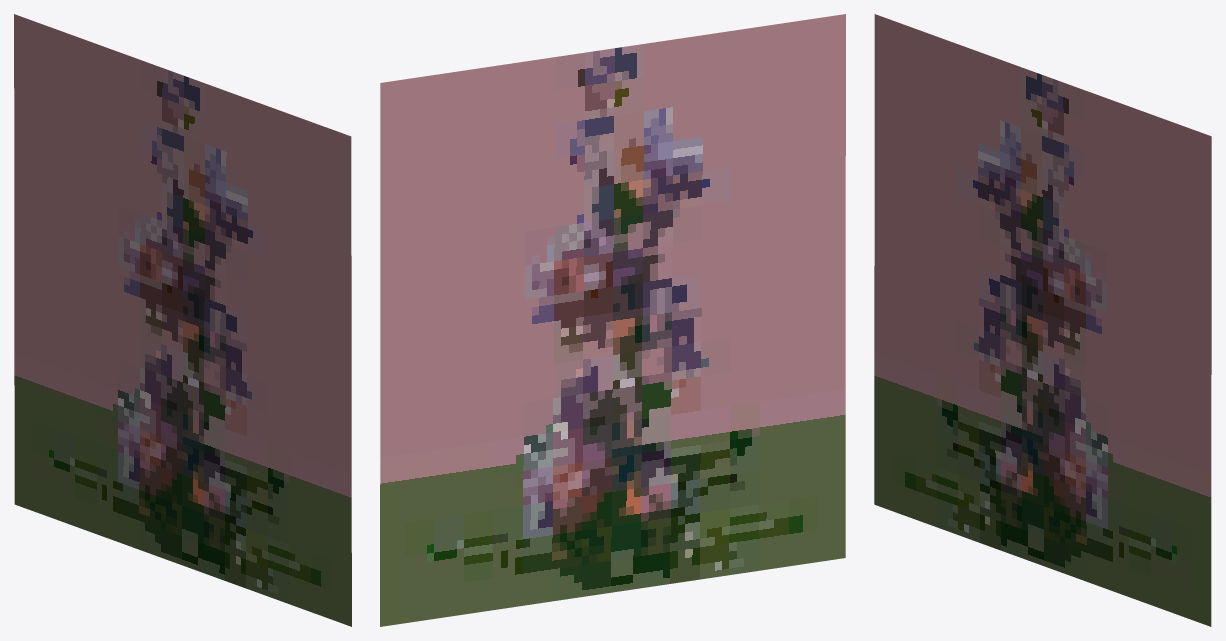
Rendered from wrld_flower_bright.glb.
3 renders of one model, left to right at view 1: azimuth 90°, elevation 25°; view 2: azimuth 150°, elevation 25°; view 3: azimuth 270°, elevation 25°, orthographic. The views are drawn at different scales.
Visible parts, largest first — view 1: wrld_flower_bright; view 2: wrld_flower_bright; view 3: wrld_flower_bright.
Boxes of the visible parts, x1,y1,x2,y2 form: wrld_flower_bright: [14, 14, 351, 626]; wrld_flower_bright: [380, 14, 845, 626]; wrld_flower_bright: [874, 14, 1211, 626].
Size of the model in its own units: 1.54 by 2.87 by 1.79.
Materials: 1 (1 with a texture image).
